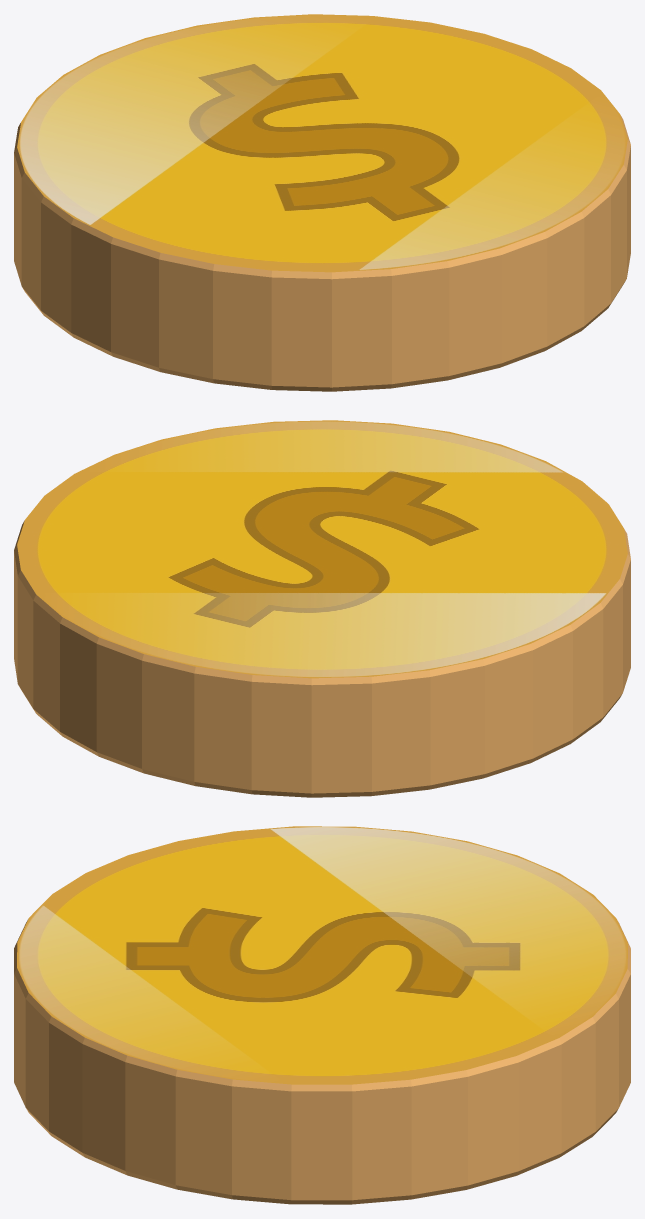
The model's file is CoinModel.fbx.
The picture shows the model from 3 angles, top to bottom: view 1: azimuth 30°, elevation 25°; view 2: azimuth 150°, elevation 25°; view 3: azimuth 270°, elevation 25°; orthographic projection.
Visible parts, largest first — view 1: Cylinder; view 2: Cylinder; view 3: Cylinder.
Part boxes in pixels (x1,y1,x2,y2): Cylinder: (14,14,630,391); Cylinder: (14,420,630,797); Cylinder: (14,826,630,1204).
Bounding box in the file's own units: 504 × 108 × 504.
